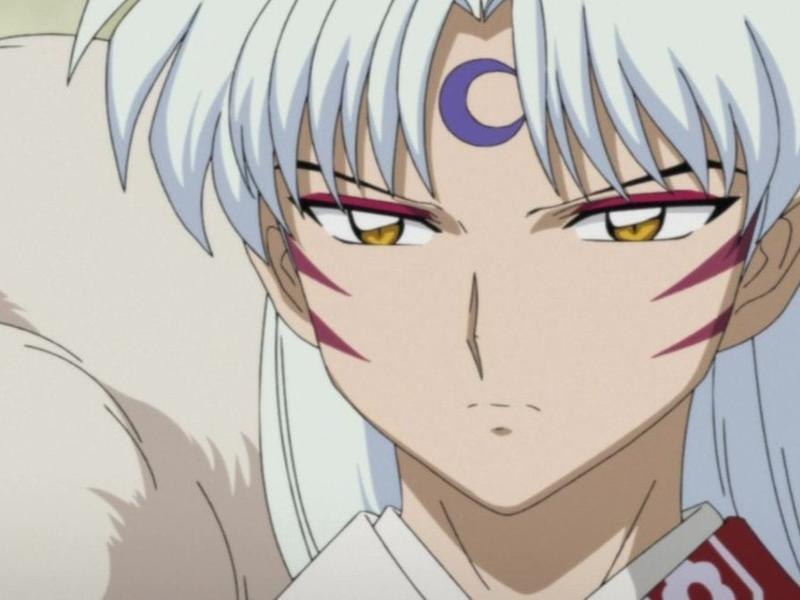sesshomaru: (59, 1, 800, 597)
